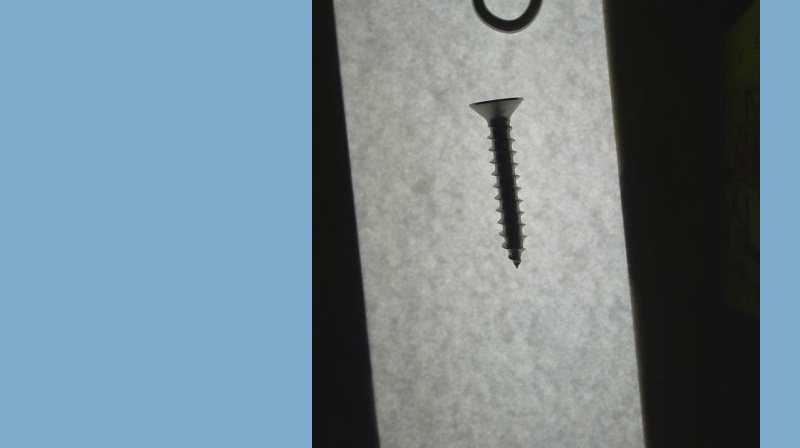O001: (454, 0, 546, 36)
S001: (466, 91, 532, 272)
